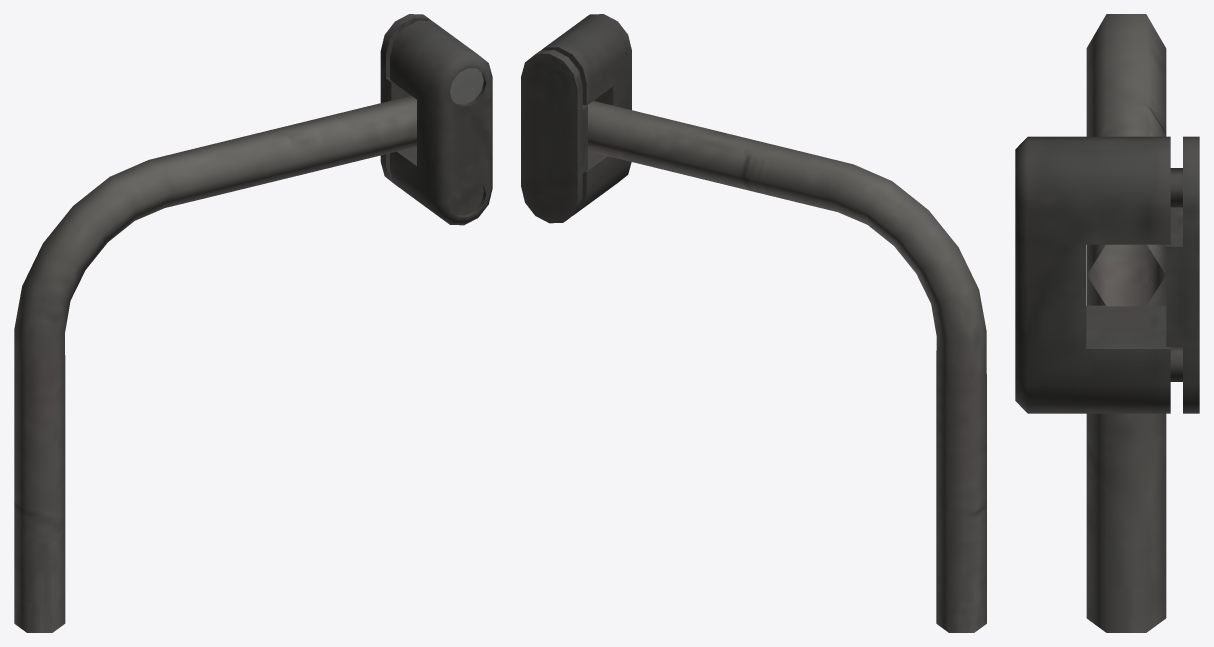
The model's file is cable_turn_short.gltf.
The picture shows the model from 3 angles, left to right: view 1: azimuth 30°, elevation 25°; view 2: azimuth 150°, elevation 25°; view 3: azimuth 270°, elevation 25°; orthographic projection. The views are drawn at different scales.
Parts seen in each view (by area): view 1: cable_turn_short; view 2: cable_turn_short; view 3: cable_turn_short.
Boxes of the visible parts, left/top/right/bottom form: cable_turn_short: left=14, top=14, right=492, bottom=632; cable_turn_short: left=521, top=14, right=986, bottom=632; cable_turn_short: left=1015, top=14, right=1199, bottom=632.
Size of the model in its own units: 0.1121 by 0.1208 by 0.0259.
Materials: 1 (1 with a texture image).
